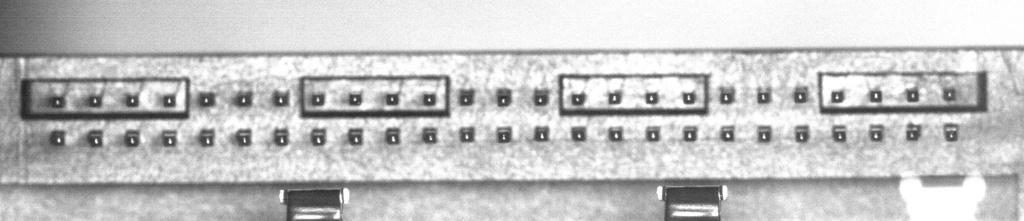pin_ok: (496, 87, 513, 106), (458, 88, 475, 106), (272, 89, 290, 106), (198, 128, 215, 146), (235, 89, 253, 106), (943, 124, 960, 141), (161, 130, 178, 147), (235, 128, 252, 145), (534, 88, 550, 106), (198, 91, 216, 107), (124, 129, 140, 147), (347, 127, 363, 145), (87, 129, 103, 147), (793, 86, 809, 103), (794, 125, 810, 142), (273, 128, 289, 145), (310, 128, 326, 145), (49, 129, 66, 145), (533, 125, 550, 141), (832, 124, 847, 142), (756, 87, 772, 103), (719, 87, 735, 103), (756, 126, 772, 142), (459, 126, 475, 142), (385, 128, 401, 144), (422, 127, 438, 143), (906, 123, 921, 140), (682, 126, 698, 141), (571, 125, 586, 141), (496, 127, 512, 142), (905, 87, 920, 102), (942, 87, 957, 102), (720, 126, 735, 141), (869, 127, 884, 142), (645, 126, 660, 141), (608, 126, 623, 141), (570, 91, 586, 105), (869, 88, 883, 103), (310, 92, 325, 106), (385, 92, 400, 106), (348, 91, 363, 105), (682, 90, 696, 105), (125, 93, 140, 107), (607, 90, 622, 104), (162, 94, 177, 108), (830, 89, 844, 103), (422, 92, 436, 106), (644, 91, 659, 104), (51, 95, 65, 108), (87, 94, 101, 107)
